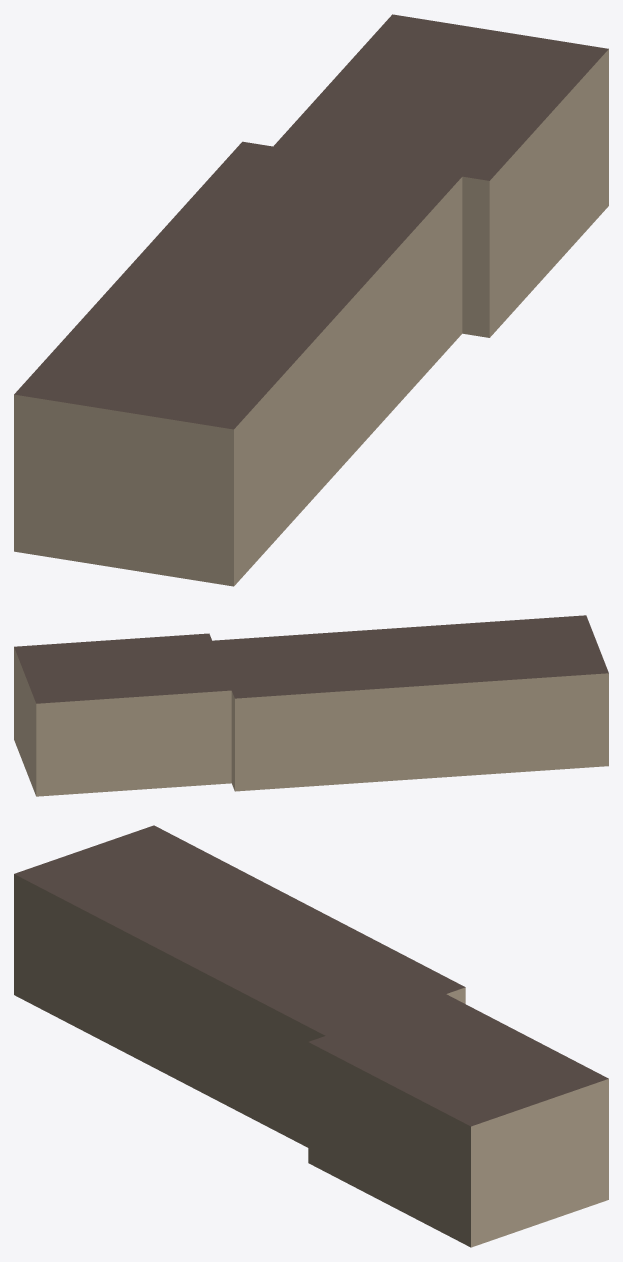
3 views of the same model, one above another, from view 1: azimuth 30°, elevation 25°; view 2: azimuth 150°, elevation 25°; view 3: azimuth 270°, elevation 25° (orthographic). The views are drawn at different scales.
Visible parts, largest first — view 1: HP-w859488886; view 2: HP-w859488886; view 3: HP-w859488886.
Boxes of the visible parts, bbox=[...] form: HP-w859488886: bbox=[14, 14, 608, 586]; HP-w859488886: bbox=[14, 615, 608, 796]; HP-w859488886: bbox=[14, 825, 608, 1247].
Size of the model in its own units: 48 by 9 by 40.07.
